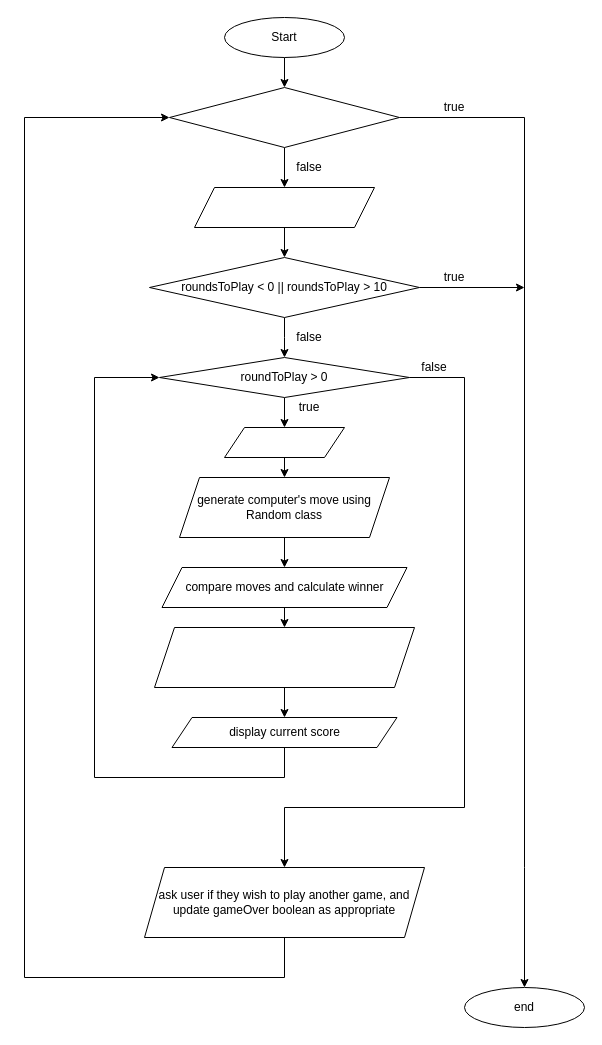
This 602x1045 diagram has some shape labels left out. The centre of each missing label's shape, as x and y in pixels:
add 1 to either roundsWon or roundsLost depending on outcome: point 284,657
gameOver?: point 284,117
Get rounds to play: point 284,207
get user move: point 284,442
